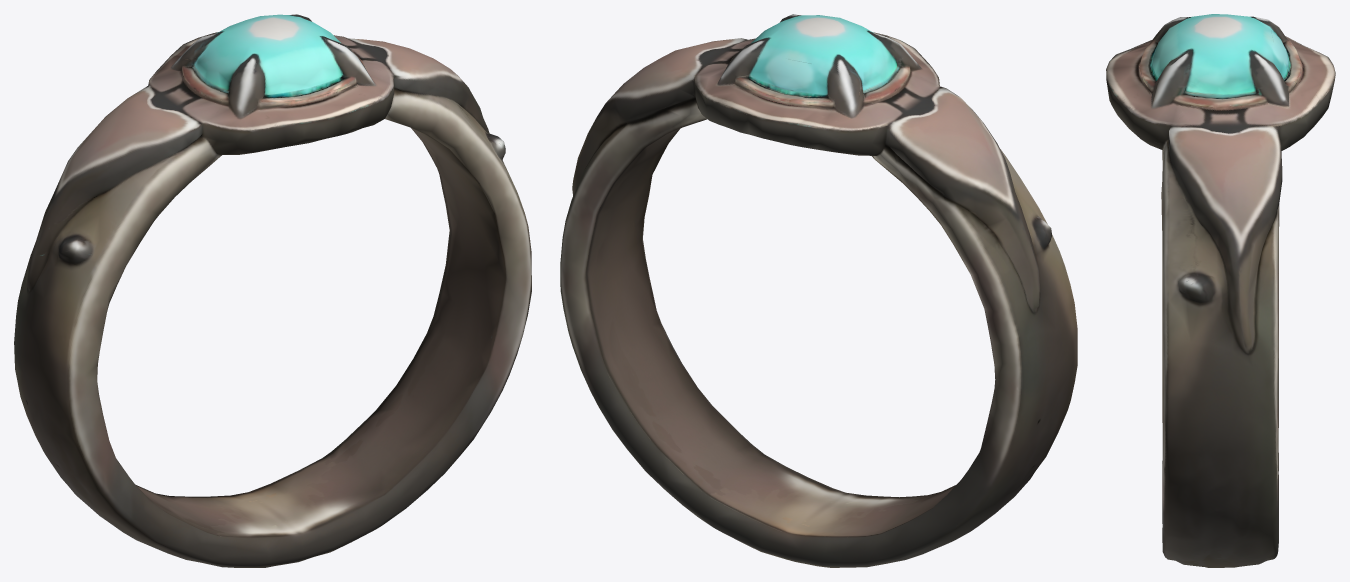
Rendered from Meshy_Model_Import0007.fbx.
3 views of the same model, side by side, from view 1: azimuth 30°, elevation 25°; view 2: azimuth 150°, elevation 25°; view 3: azimuth 270°, elevation 25° (orthographic).
Parts seen in each view (by area): view 1: Mesh1.0; view 2: Mesh1.0; view 3: Mesh1.0.
Part boxes in pixels (left/top/right/bottom): Mesh1.0: left=14, top=14, right=531, bottom=567; Mesh1.0: left=560, top=14, right=1077, bottom=567; Mesh1.0: left=1106, top=14, right=1335, bottom=567.
Bounding box in the file's own units: 184 × 192 × 77.02.
1 material, 1 textured.
